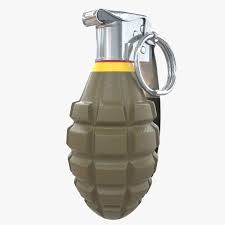e1: (67, 9, 176, 219)
